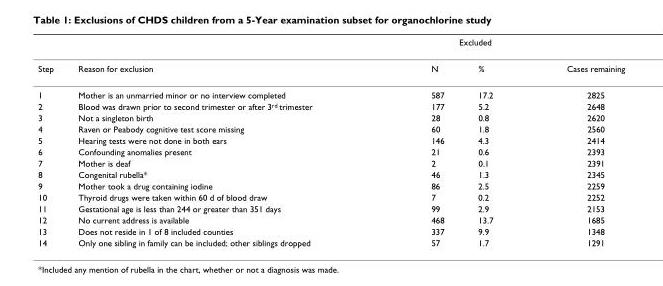table: (37, 36, 624, 247)
table column: (65, 36, 371, 247), (529, 36, 624, 247), (371, 36, 460, 247), (460, 36, 529, 247), (37, 36, 65, 247)
table column header: (37, 36, 624, 81)
table row: (37, 54, 624, 81), (37, 81, 624, 100), (37, 36, 624, 54), (37, 122, 624, 134), (37, 145, 624, 157), (37, 179, 624, 191), (37, 213, 624, 225), (37, 100, 624, 111), (37, 111, 624, 122), (37, 134, 624, 145), (37, 157, 624, 168), (37, 168, 624, 179), (37, 191, 624, 202), (37, 202, 624, 213), (37, 225, 624, 236), (37, 236, 624, 247)
table spanning cell: (65, 36, 371, 81), (529, 36, 624, 81), (371, 36, 529, 54), (37, 36, 65, 81)
